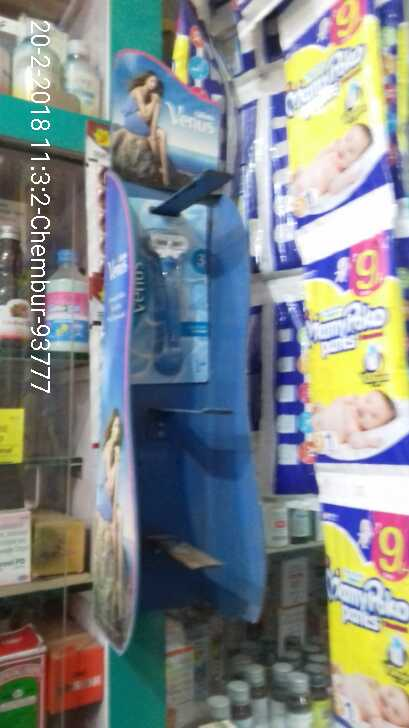venus: (128, 195, 221, 397)
